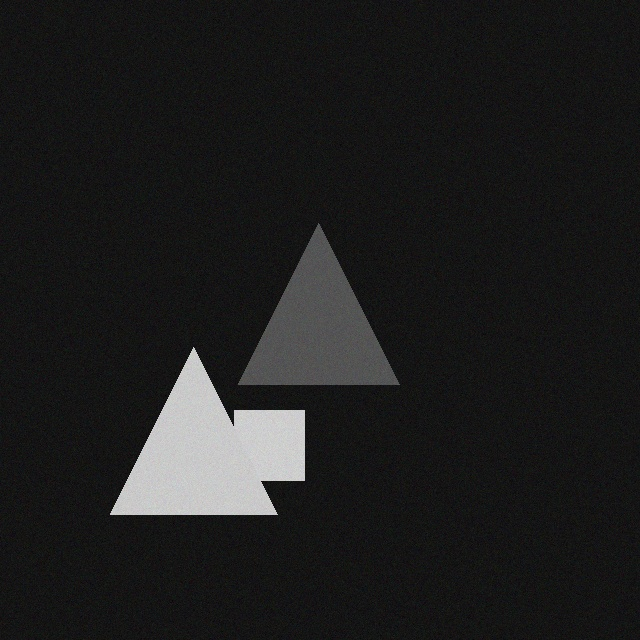square: (247, 416, 317, 486)
triangle: (123, 353, 290, 520), (251, 229, 412, 390)
